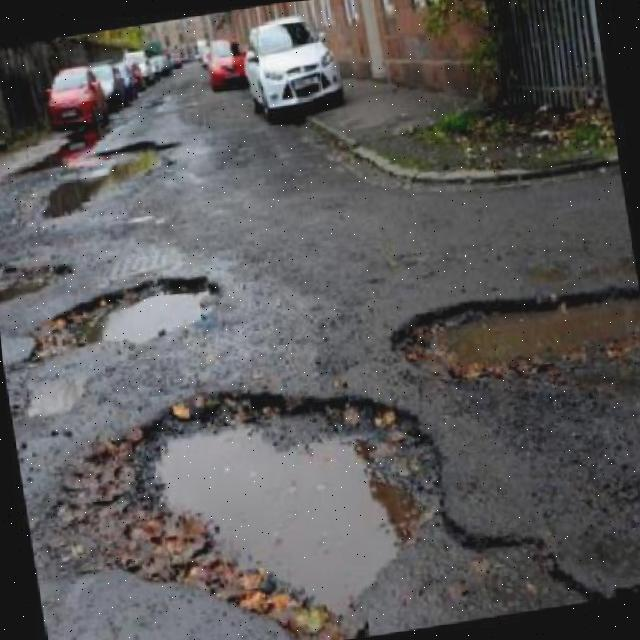Pothole: (136, 395, 441, 615), (393, 288, 640, 381), (32, 276, 218, 359), (0, 262, 73, 303)
